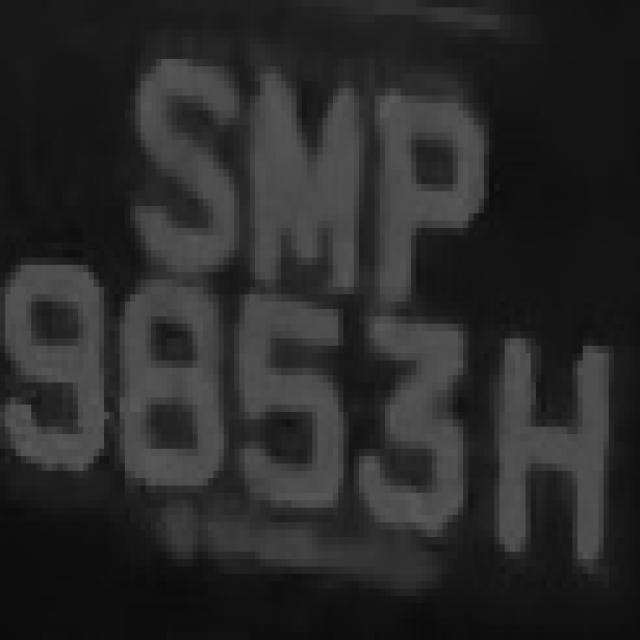3: (354, 302, 463, 537)
5: (224, 279, 343, 552)
8: (120, 242, 239, 530)
9: (0, 235, 114, 500)
H: (484, 294, 624, 596)
M: (239, 51, 380, 309)
P: (364, 74, 489, 324)
S: (125, 29, 250, 287)
